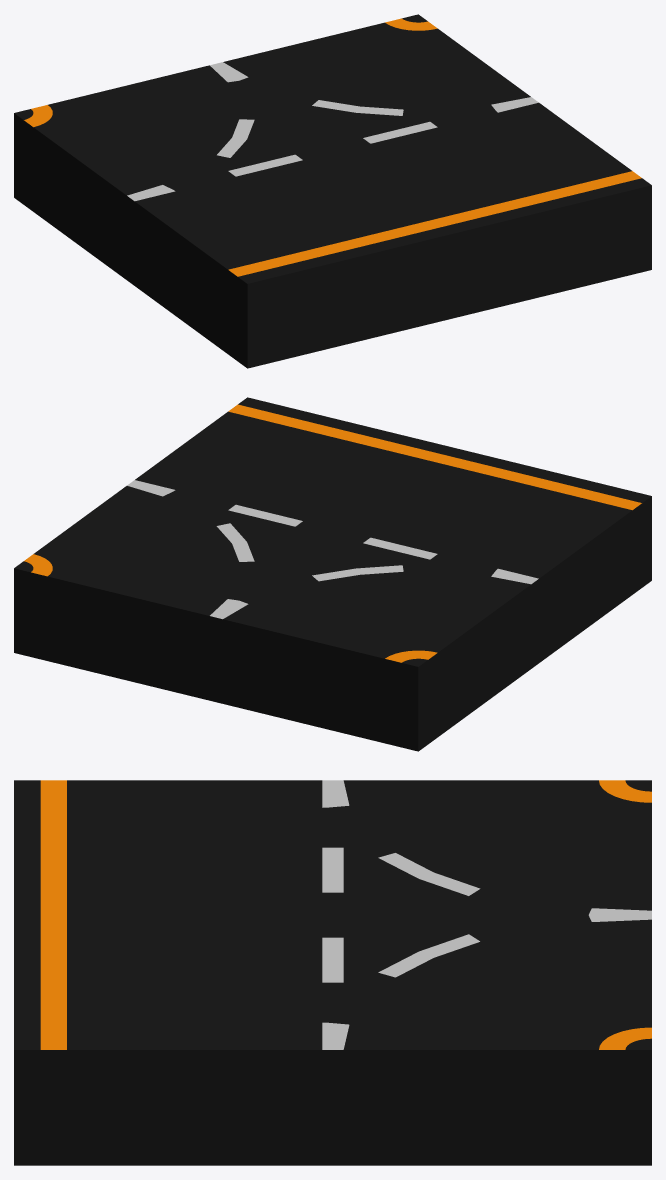
File: 3way_round_road.obj
3 views of the same model, one above another, from view 1: azimuth 30°, elevation 25°; view 2: azimuth 150°, elevation 25°; view 3: azimuth 270°, elevation 25° (orthographic). The views are drawn at different scales.
Visible parts, largest first — view 1: Cube_Cube.004; view 2: Cube_Cube.004; view 3: Cube_Cube.004.
Part boxes in pixels (x1,y1,x2,y2): Cube_Cube.004: [14, 14, 651, 368]; Cube_Cube.004: [14, 397, 651, 751]; Cube_Cube.004: [14, 780, 651, 1165].
Bounding box in the file's own units: 1 × 0.2 × 1.
